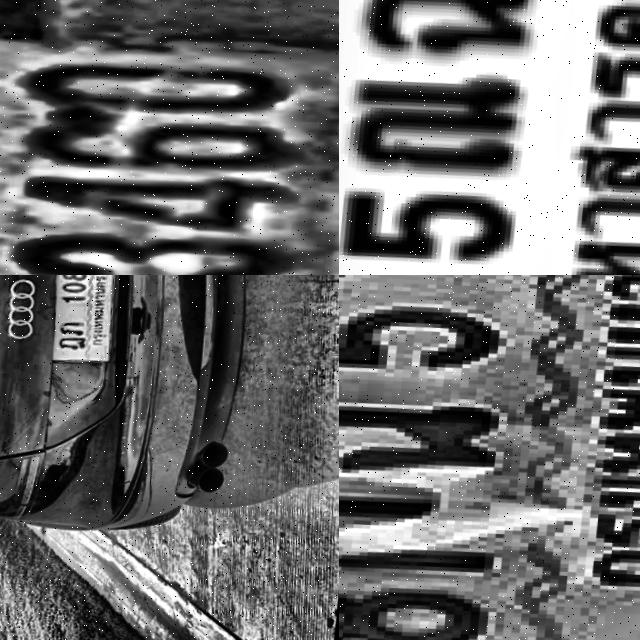license-plate: (339, 275, 640, 640), (0, 4, 339, 275), (339, 0, 640, 275), (46, 275, 121, 368)
